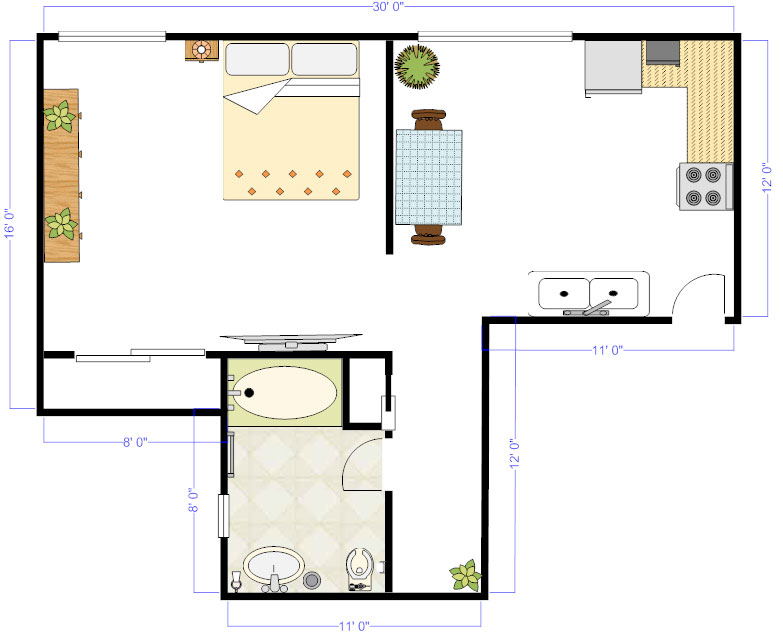door: (662, 244, 729, 314), (329, 435, 379, 498)
